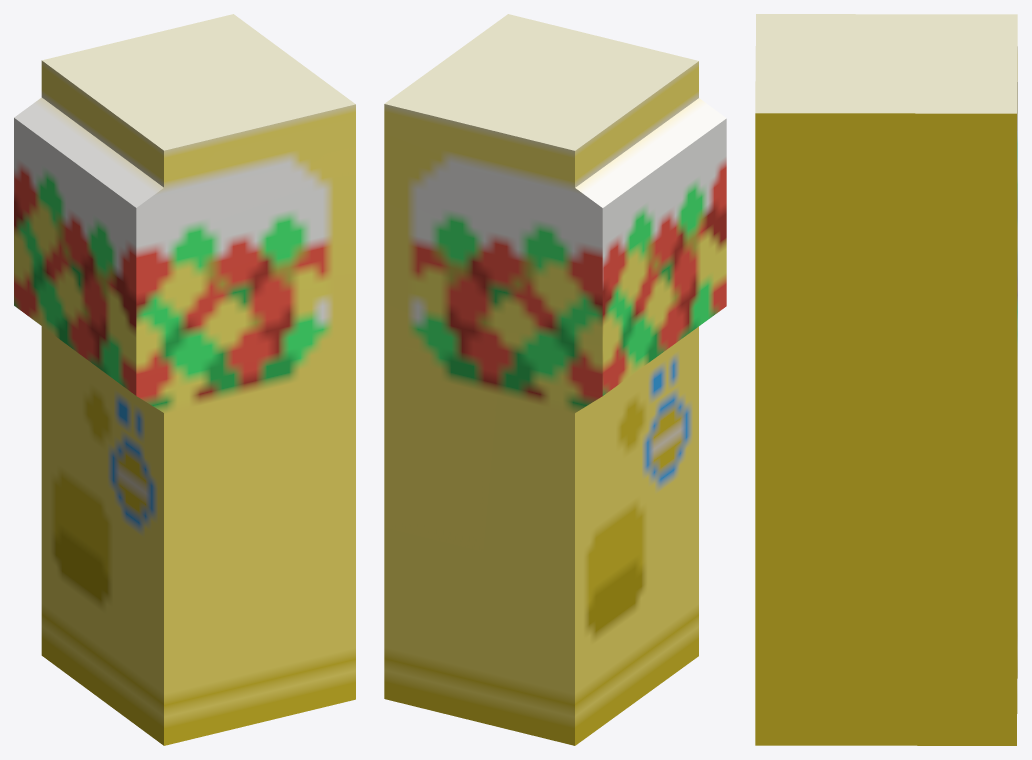
The model's file is GatchaPon.obj.
The picture shows the model from 3 angles, left to right: view 1: azimuth 30°, elevation 25°; view 2: azimuth 150°, elevation 25°; view 3: azimuth 270°, elevation 25°; orthographic projection. The views are drawn at different scales.
Parts seen in each view (by area): view 1: GatchaPon; view 2: GatchaPon; view 3: GatchaPon.
Part boxes in pixels (x1=…): GatchaPon: x1=14, y1=14, x2=355, y2=745; GatchaPon: x1=384, y1=14, x2=726, y2=745; GatchaPon: x1=755, y1=14, x2=1017, y2=745.
Bounding box in the file's own units: 0.7494 × 1.94 × 0.7293.
